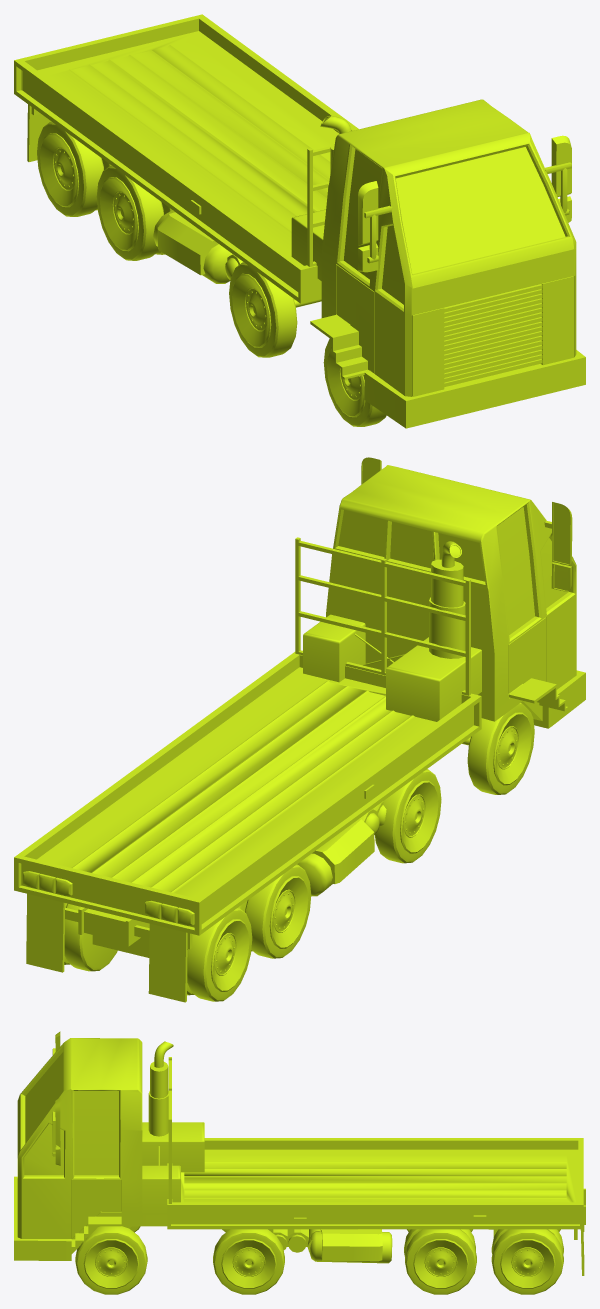
File: Truck Fixed.fbx
3 renders of one model, top to bottom at view 1: azimuth 30°, elevation 25°; view 2: azimuth 150°, elevation 25°; view 3: azimuth 270°, elevation 25°, orthographic. The views are drawn at different scales.
Visible parts, largest first — view 1: Box350.005, Box350.003, Box350.001, Box350.006, Box350.002, Box350; view 2: Box350.005, Box350.001, Box350.003, Box350.002, Box350.006, Box350.004, Box350; view 3: Box350.005, Box350.001, Box350.003, Box350.002, Box350.006, Box350.
Part boxes in pixels (x1,y1,x2,y2): Box350.005: (14,14,571,303); Box350.003: (321,99,576,396); Box350.001: (31,107,571,417); Box350.006: (343,147,565,304); Box350.002: (37,121,386,426); Box350: (364,350,585,428); Box350.005: (14,457,572,1002); Box350.001: (65,520,567,991); Box350.003: (326,465,576,721); Box350.002: (64,703,534,1001); Box350.006: (338,458,569,634); Box350.004: (23,871,194,925); Box350: (533,670,585,728); Box350.005: (55,1031,584,1275); Box350.001: (52,1041,585,1288); Box350.003: (17,1038,142,1253); Box350.002: (75,1226,563,1294); Box350.006: (24,1052,118,1175); Box350: (14,1176,71,1260).
Size of the model in its own units: 229 by 275 by 715.
